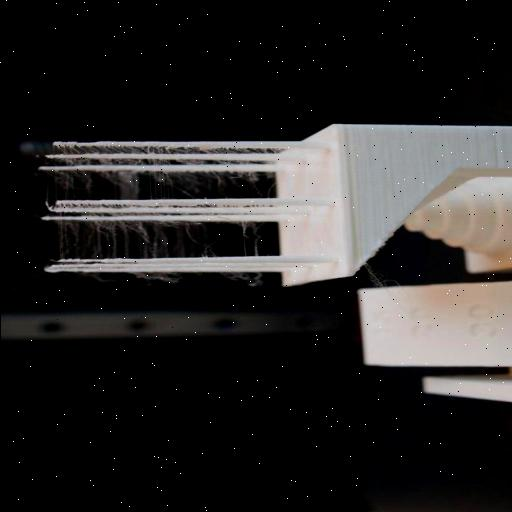stringing: (49, 220, 220, 258), (147, 172, 280, 198), (56, 146, 287, 154), (50, 159, 271, 166), (50, 172, 99, 200), (102, 172, 145, 199), (234, 222, 265, 256), (362, 265, 400, 290), (213, 274, 267, 290), (122, 274, 189, 286), (64, 273, 124, 285)
